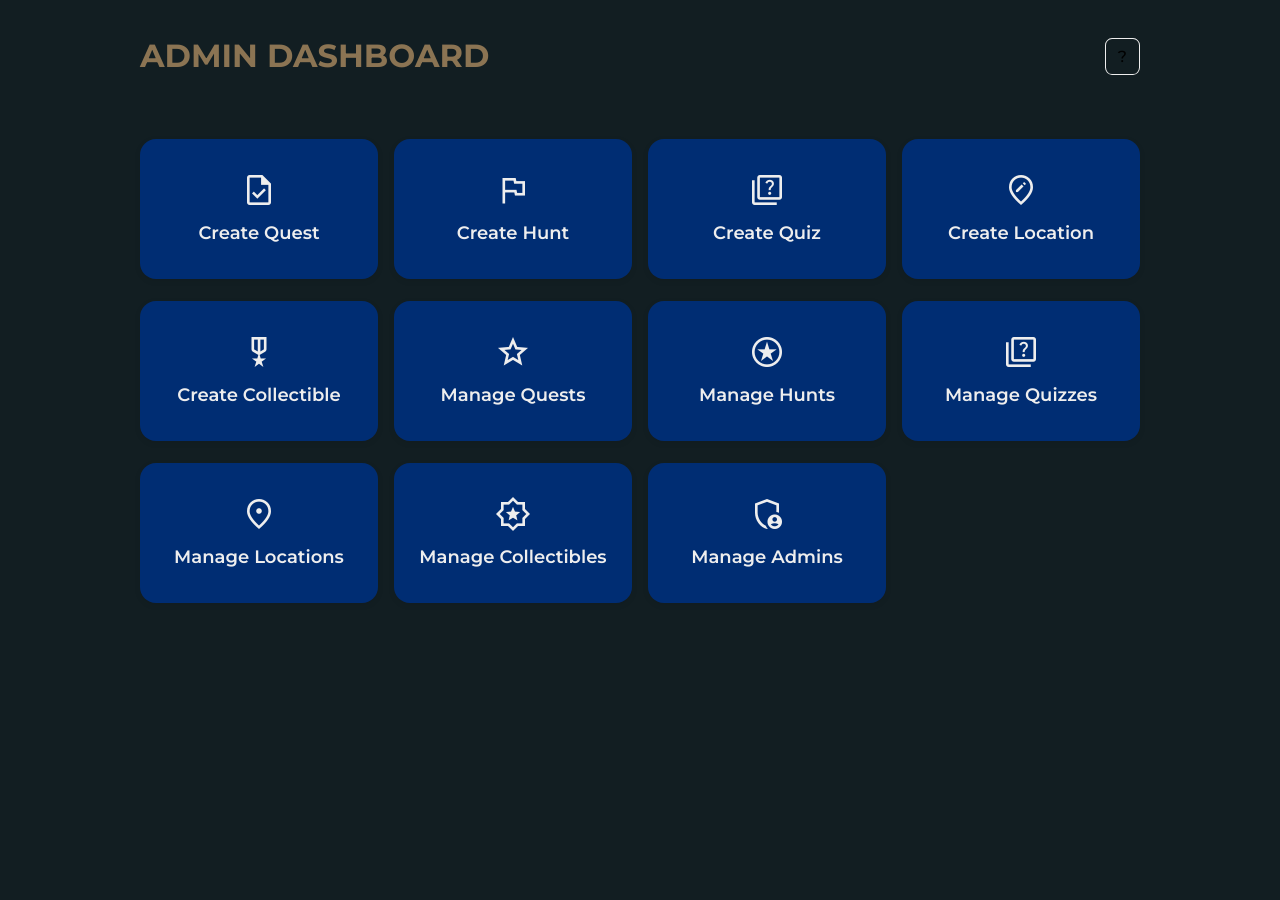
it: AdminDashboard › opens help modal when help button clicked
Find by aria-label instead of text content
Click the button named "help": (1122, 56) [1105, 38, 1140, 74]
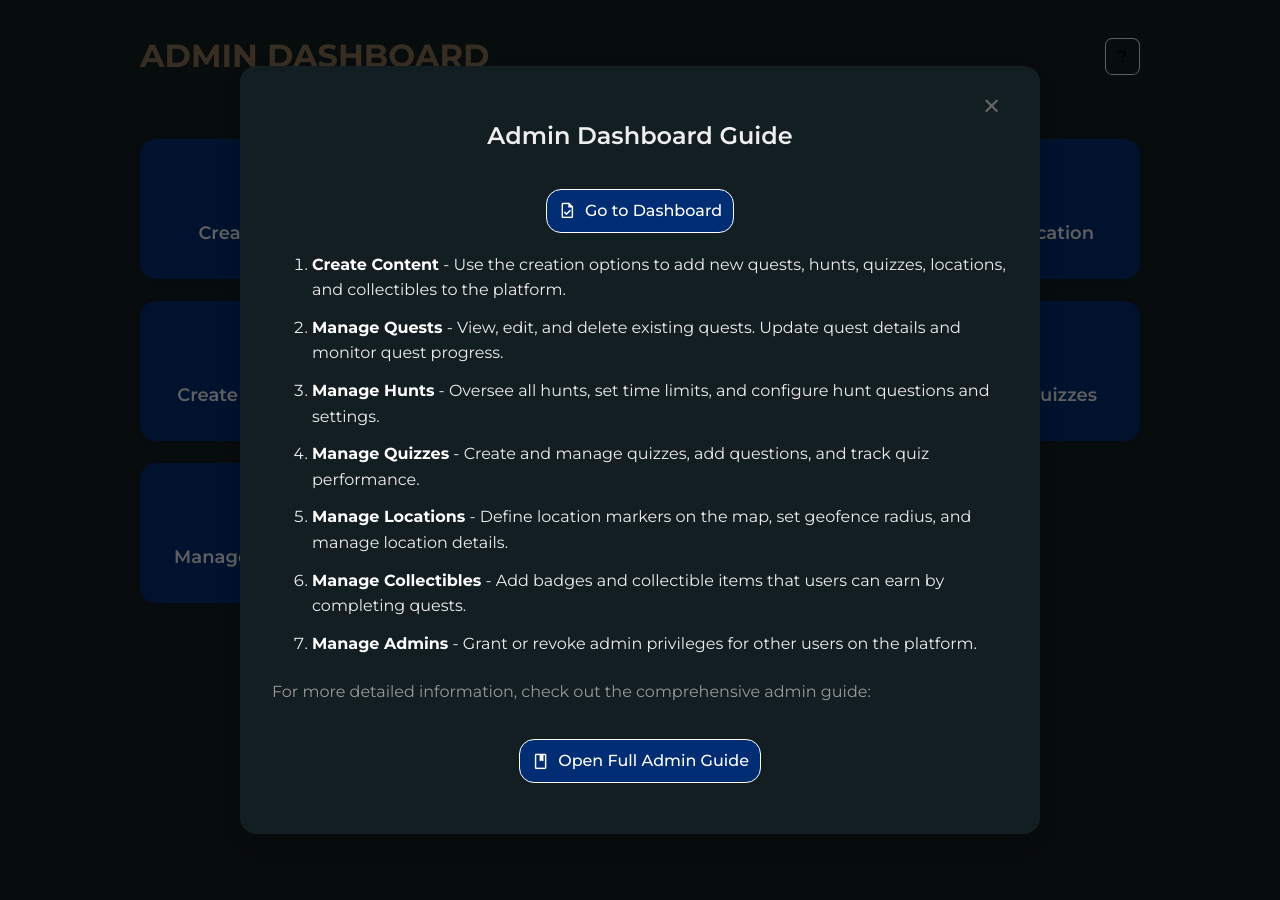
Result: the text "For more detailed information" is shown at [272, 682, 871, 701]
